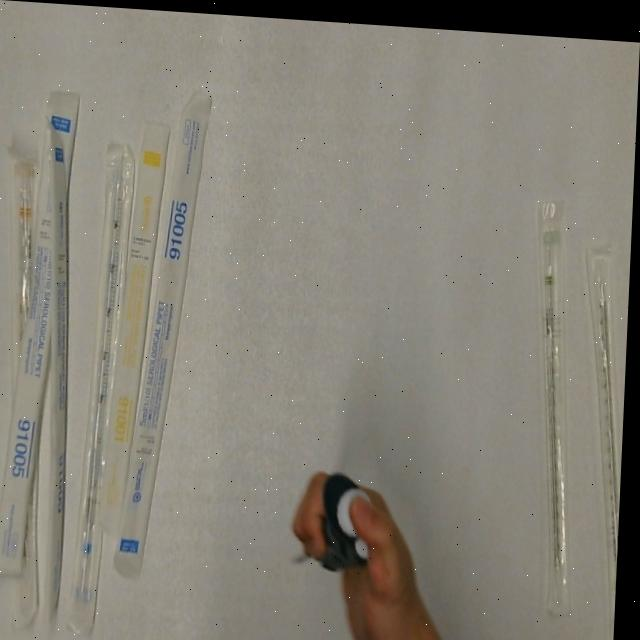Serelogical Pipet 1 mL - Sealed: (100, 111, 174, 537)
Serelogical Pipet 10 mL - Sealed: (1, 139, 47, 384)
Serelogical Pipet 2 mL - Sealed: (518, 180, 597, 621)
Serelogical Pipet 5 mL - Sealed: (113, 80, 216, 580), (0, 72, 89, 589), (70, 133, 140, 635), (28, 109, 87, 626)
Single Channel Pipettor: (293, 463, 381, 570)
